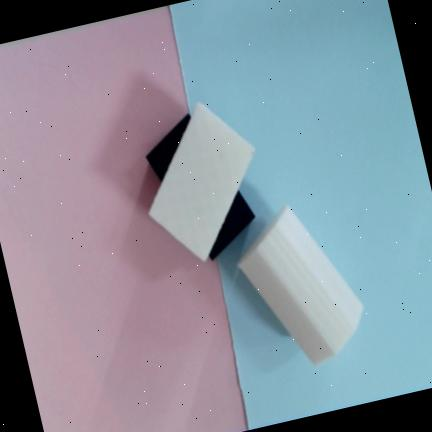Paralelepipedo: (149, 102, 255, 260), (145, 114, 256, 263)
Prisma_hexagonal: (239, 206, 363, 364)
